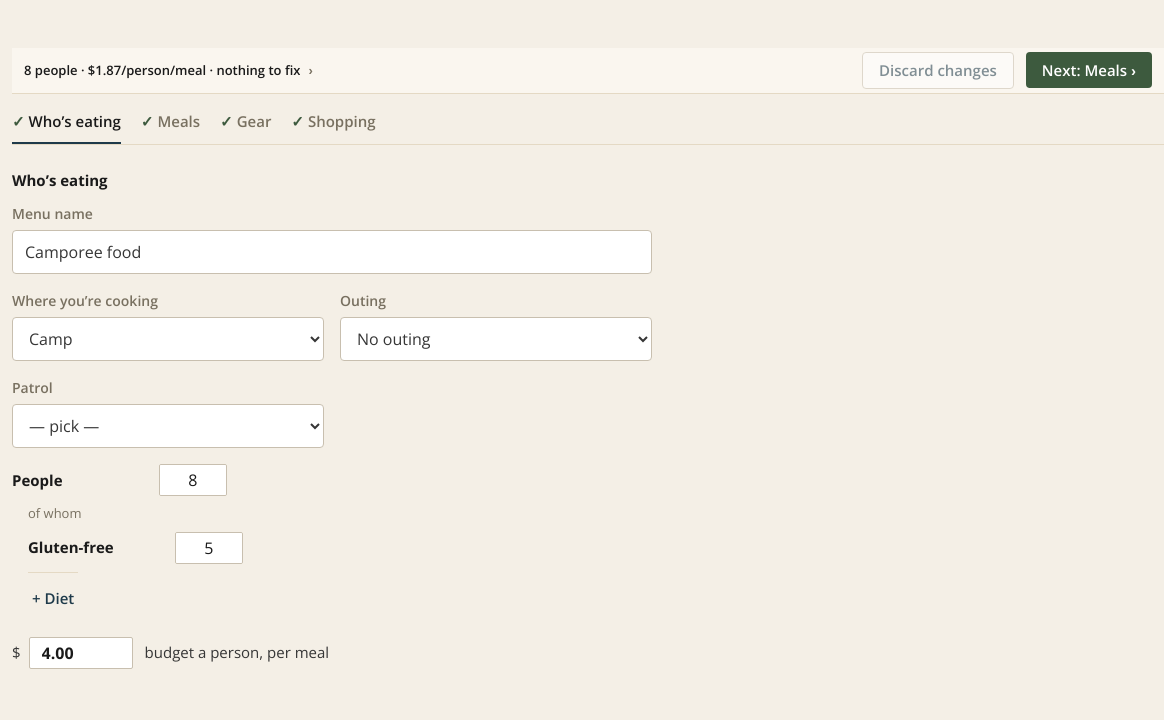
Test case: PeopleTab — Who’s eating on its own screen › Discard_IsGreyed_WhenNothingChanged_AndEnabledOnceItIsDirty
This screenshot has width=1164, height=720.
Check: the button "Discard changes" is disabled, box [862, 52, 1014, 88]
Type "!" into the field labelled "Menu name" at (332, 252), box [12, 230, 652, 274]
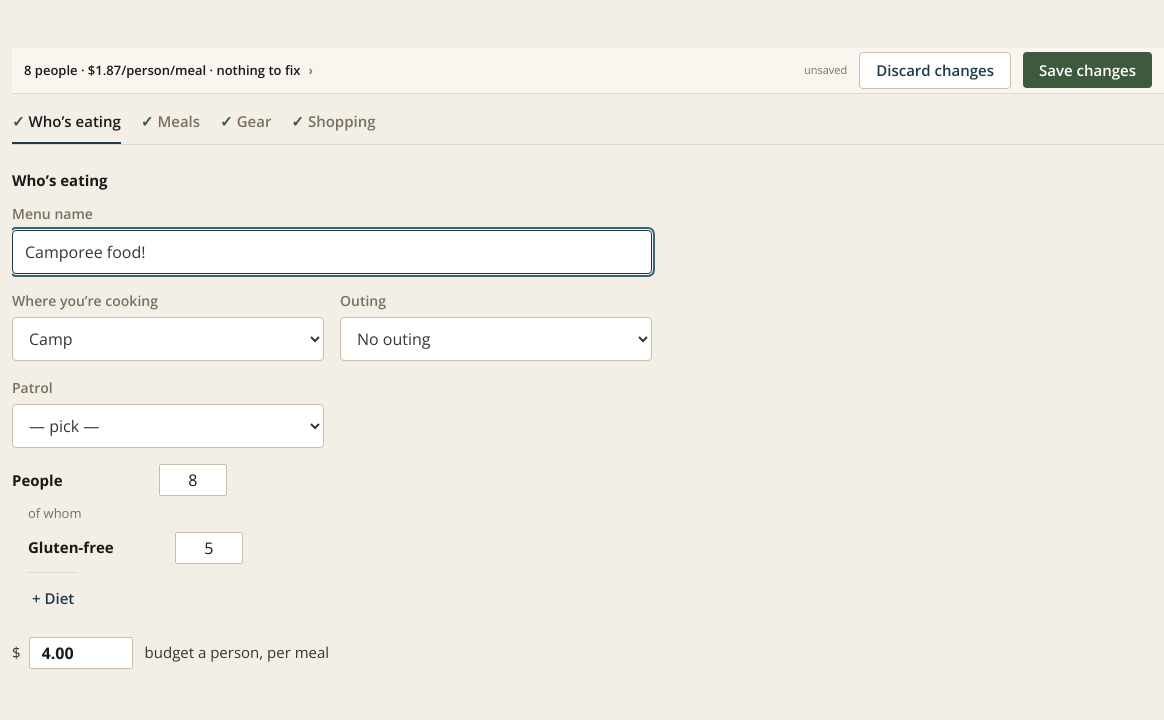
Check: the button "Discard changes" is enabled, box [859, 52, 1011, 88]
